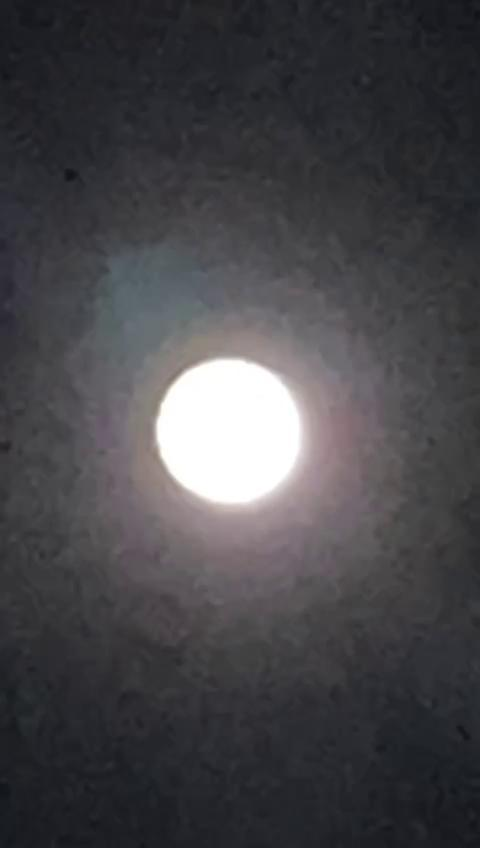moon: (171, 336, 338, 527)
